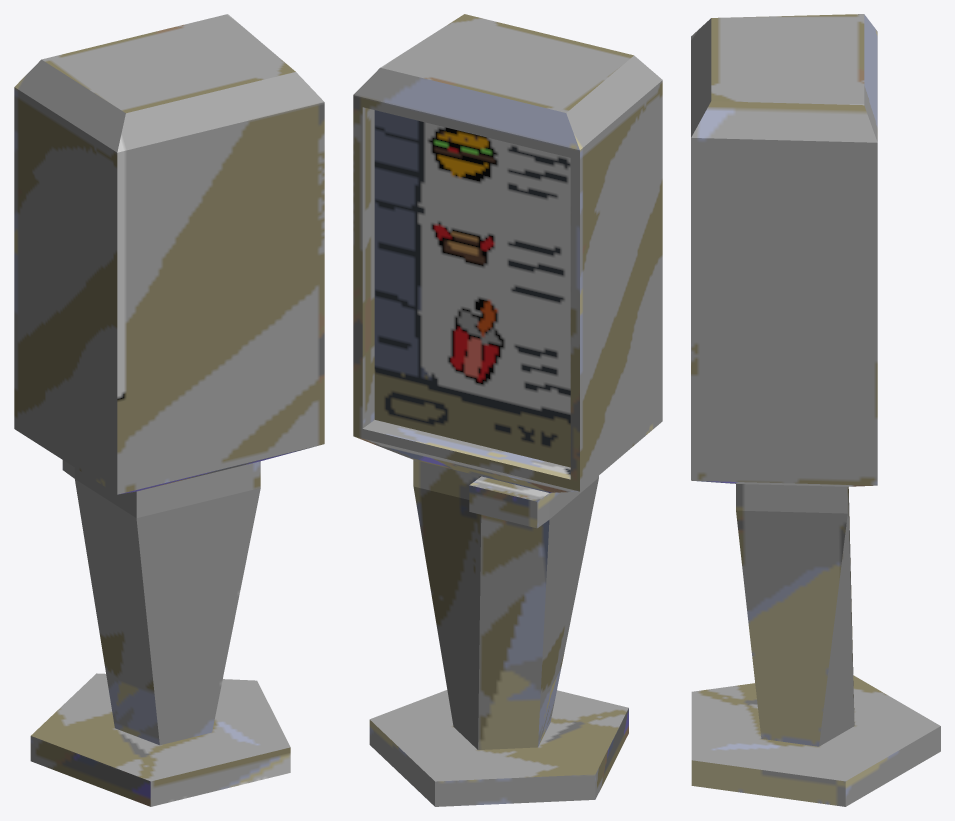
File: stander.fbx
The picture shows the model from 3 angles, left to right: view 1: azimuth 30°, elevation 25°; view 2: azimuth 150°, elevation 25°; view 3: azimuth 270°, elevation 25°; orthographic projection.
Visible parts, largest first — view 1: Cylinder; view 2: Cylinder; view 3: Cylinder.
Boxes of the visible parts, left/top/right/bottom form: Cylinder: left=14, top=14, right=324, bottom=806; Cylinder: left=353, top=14, right=662, bottom=806; Cylinder: left=691, top=14, right=940, bottom=806.
Size of the model in its own units: 119 by 344 by 113.
